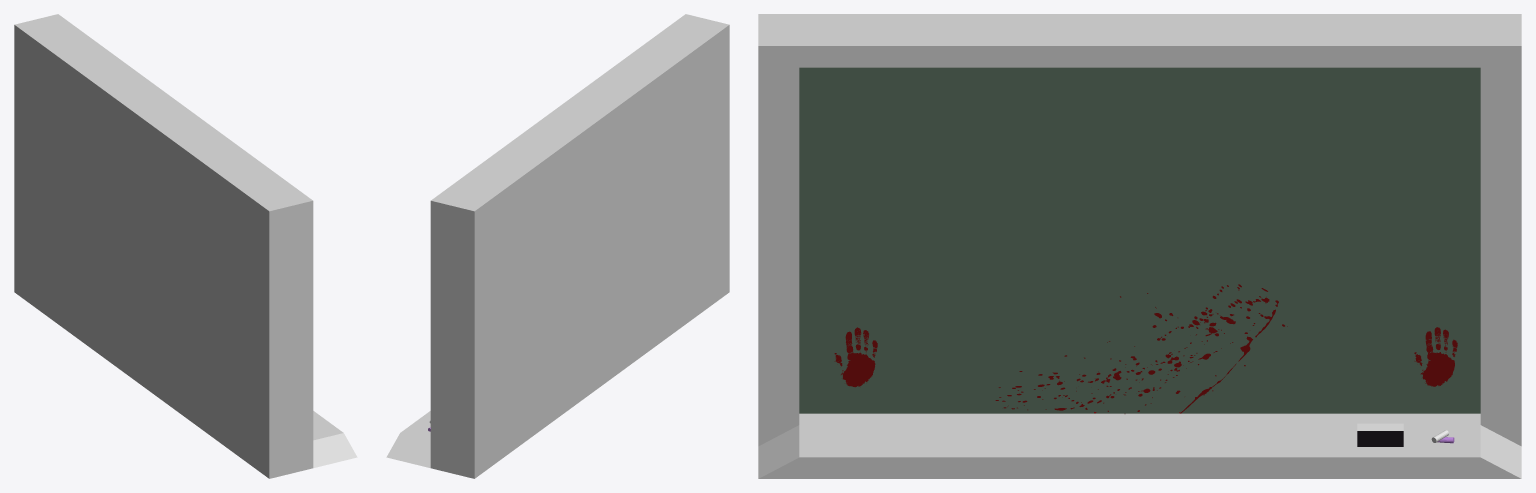
The model's file is Chalkboard.fbx.
3 views of the same model, side by side, from view 1: azimuth 30°, elevation 25°; view 2: azimuth 150°, elevation 25°; view 3: azimuth 270°, elevation 25° (orthographic). The views are drawn at different scales.
Visible parts, largest first — view 1: Cube; view 2: Cube; view 3: Cube, DPJYeM-blood-splatter, detailed-fingerprint-texture-on-a-human-palm-free-png, detailed-fingerprint-texture-on-a-human-palm-free-png.001, Cube.001.
Boxes of the visible parts, x1,y1,x2,y2 form: Cube: (14, 14, 357, 478); Cube: (386, 14, 729, 478); Cube: (758, 14, 1521, 478); DPJYeM-blood-splatter: (995, 284, 1287, 413); detailed-fingerprint-texture-on-a-human-palm-free-png: (834, 327, 877, 387); detailed-fingerprint-texture-on-a-human-palm-free-png.001: (1414, 327, 1457, 386); Cube.001: (1357, 423, 1403, 446).
Bounding box in the file's own units: 167 × 512 × 838.
